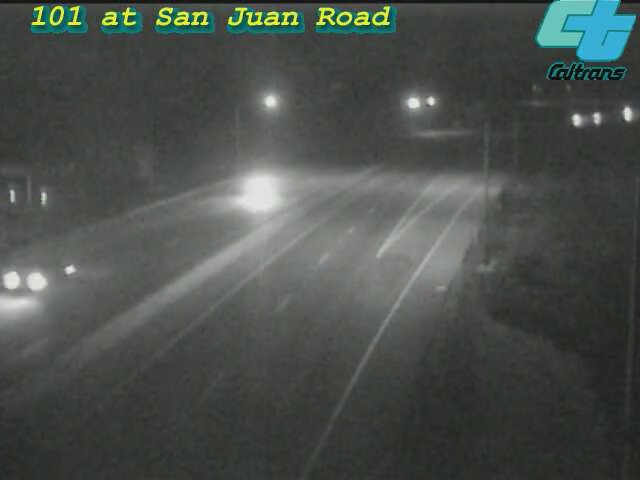vehicle: (216, 150, 296, 230), (1, 241, 65, 321), (574, 91, 624, 141), (548, 96, 598, 146), (602, 90, 640, 140)
